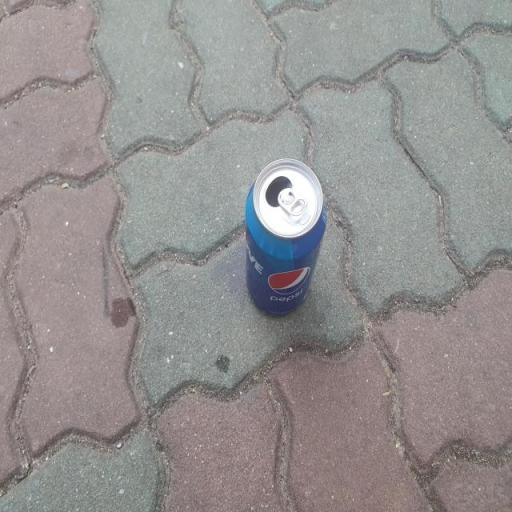metal: (214, 121, 348, 340)
